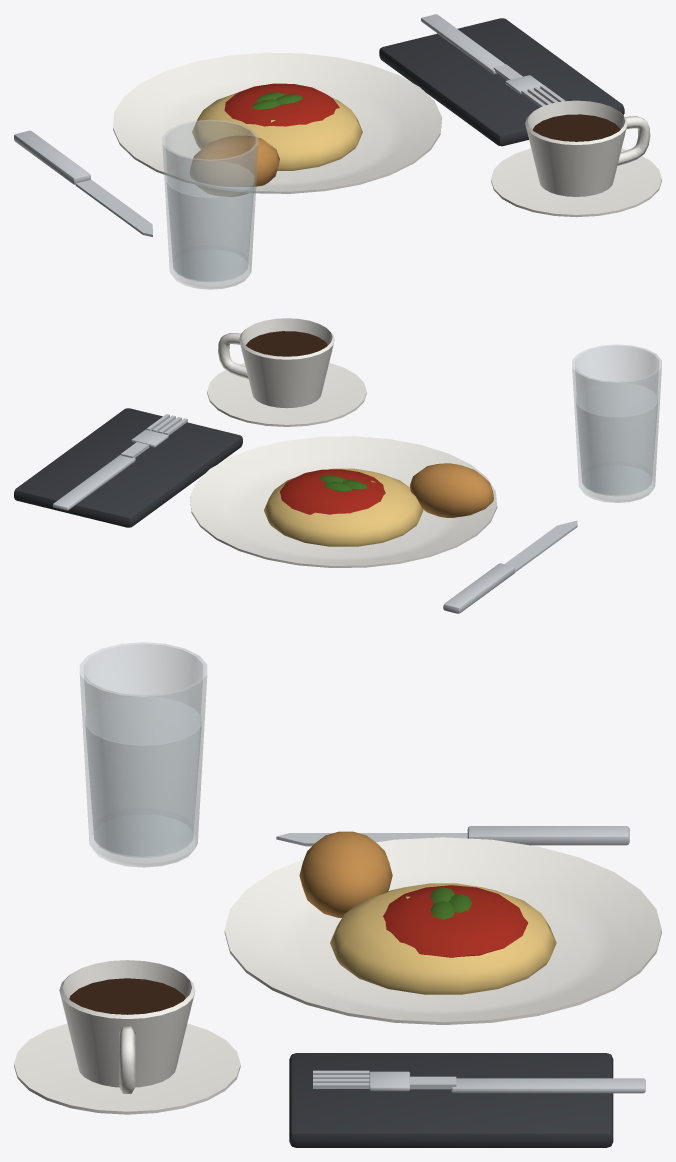
The model's file is HH-DINING-SET-B.glb.
3 renders of one model, top to bottom at view 1: azimuth 30°, elevation 25°; view 2: azimuth 150°, elevation 25°; view 3: azimuth 270°, elevation 25°, orthographic. The views are drawn at different scales.
Visible parts, largest first — view 1: Dining_Plate, Dining_CoffeeCup_Mesh, Dining_WaterGlass_Glass, Dining_Meal_B_Mesh, Dining_Napkin, Dining_WaterGlass_Water, Dining_Knife_Mesh, Dining_Fork_Mesh; view 2: Dining_Plate, Dining_Meal_B_Mesh, Dining_Napkin, Dining_CoffeeCup_Mesh, Dining_WaterGlass_Glass, Dining_WaterGlass_Water, Dining_Fork_Mesh, Dining_Knife_Mesh; view 3: Dining_Plate, Dining_Napkin, Dining_Meal_B_Mesh, Dining_WaterGlass_Glass, Dining_CoffeeCup_Mesh, Dining_WaterGlass_Water, Dining_Fork_Mesh, Dining_Knife_Mesh.
Boxes of the visible parts, left/top/right/bottom form: Dining_Plate: left=113, top=52, right=441, bottom=193; Dining_CoffeeCup_Mesh: left=491, top=100, right=661, bottom=217; Dining_WaterGlass_Glass: left=162, top=119, right=258, bottom=289; Dining_Meal_B_Mesh: left=190, top=83, right=362, bottom=196; Dining_Napkin: left=379, top=18, right=624, bottom=146; Dining_WaterGlass_Water: left=167, top=161, right=254, bottom=280; Dining_Knife_Mesh: left=14, top=130, right=152, bottom=236; Dining_Fork_Mesh: left=421, top=14, right=565, bottom=107; Dining_Plate: left=190, top=436, right=497, bottom=567; Dining_Meal_B_Mesh: left=264, top=463, right=493, bottom=546; Dining_Napkin: left=14, top=408, right=242, bottom=527; Dining_CoffeeCup_Mesh: left=207, top=318, right=366, bottom=426; Dining_WaterGlass_Glass: left=572, top=344, right=661, bottom=502; Dining_WaterGlass_Water: left=576, top=383, right=657, bottom=494; Dining_Fork_Mesh: left=52, top=414, right=187, bottom=510; Dining_Knife_Mesh: left=443, top=520, right=577, bottom=613; Dining_Plate: left=224, top=837, right=661, bottom=1024; Dining_Napkin: left=289, top=1053, right=613, bottom=1147; Dining_Meal_B_Mesh: left=299, top=831, right=556, bottom=994; Dining_WaterGlass_Glass: left=79, top=642, right=207, bottom=867; Dining_CoffeeCup_Mesh: left=14, top=960, right=240, bottom=1114; Dining_WaterGlass_Water: left=85, top=697, right=201, bottom=856; Dining_Fork_Mesh: left=313, top=1070, right=645, bottom=1093; Dining_Knife_Mesh: left=276, top=826, right=629, bottom=846.
Bounding box in the file's own units: 0.485 × 0.1322 × 0.4.
